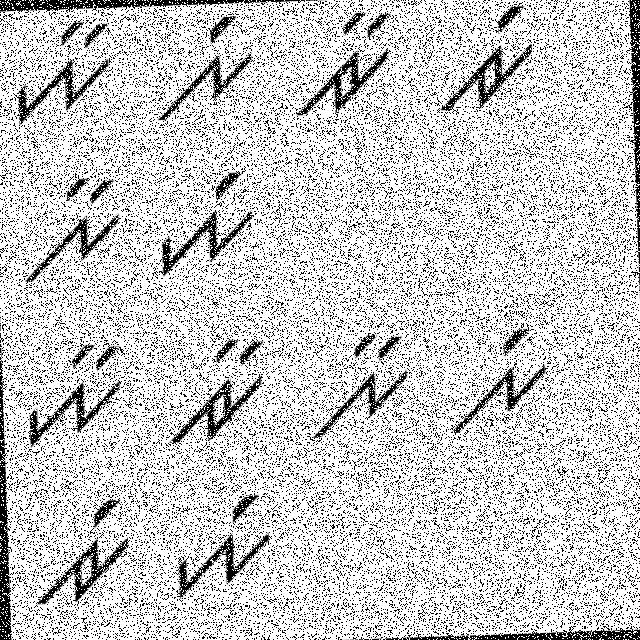lan: (309, 323, 428, 444), (10, 169, 127, 280)
lang: (441, 312, 554, 440), (148, 9, 258, 122)
ran: (160, 330, 275, 446), (289, 8, 398, 118)
rang: (26, 492, 135, 620), (424, 2, 536, 120)
yan: (0, 15, 121, 129), (12, 338, 128, 450)
yang: (154, 484, 278, 602), (148, 168, 261, 284)
